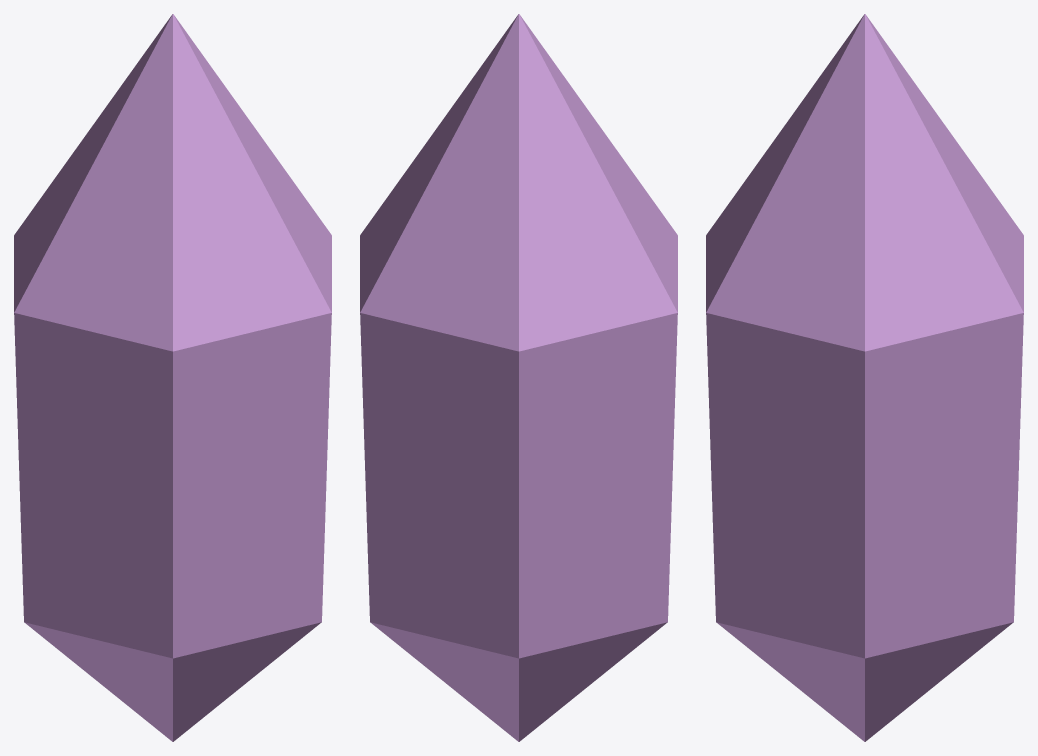
The model's file is cristal.glb.
3 views of the same model, side by side, from view 1: azimuth 30°, elevation 25°; view 2: azimuth 150°, elevation 25°; view 3: azimuth 270°, elevation 25° (orthographic).
Visible parts, largest first — view 1: cristal; view 2: cristal; view 3: cristal.
Part boxes in pixels (x1,y1,x2,y2): cristal: [14, 14, 331, 741]; cristal: [360, 14, 677, 741]; cristal: [706, 14, 1023, 741].
Bounding box in the file's own units: 0.64 × 1.4 × 0.5543.
